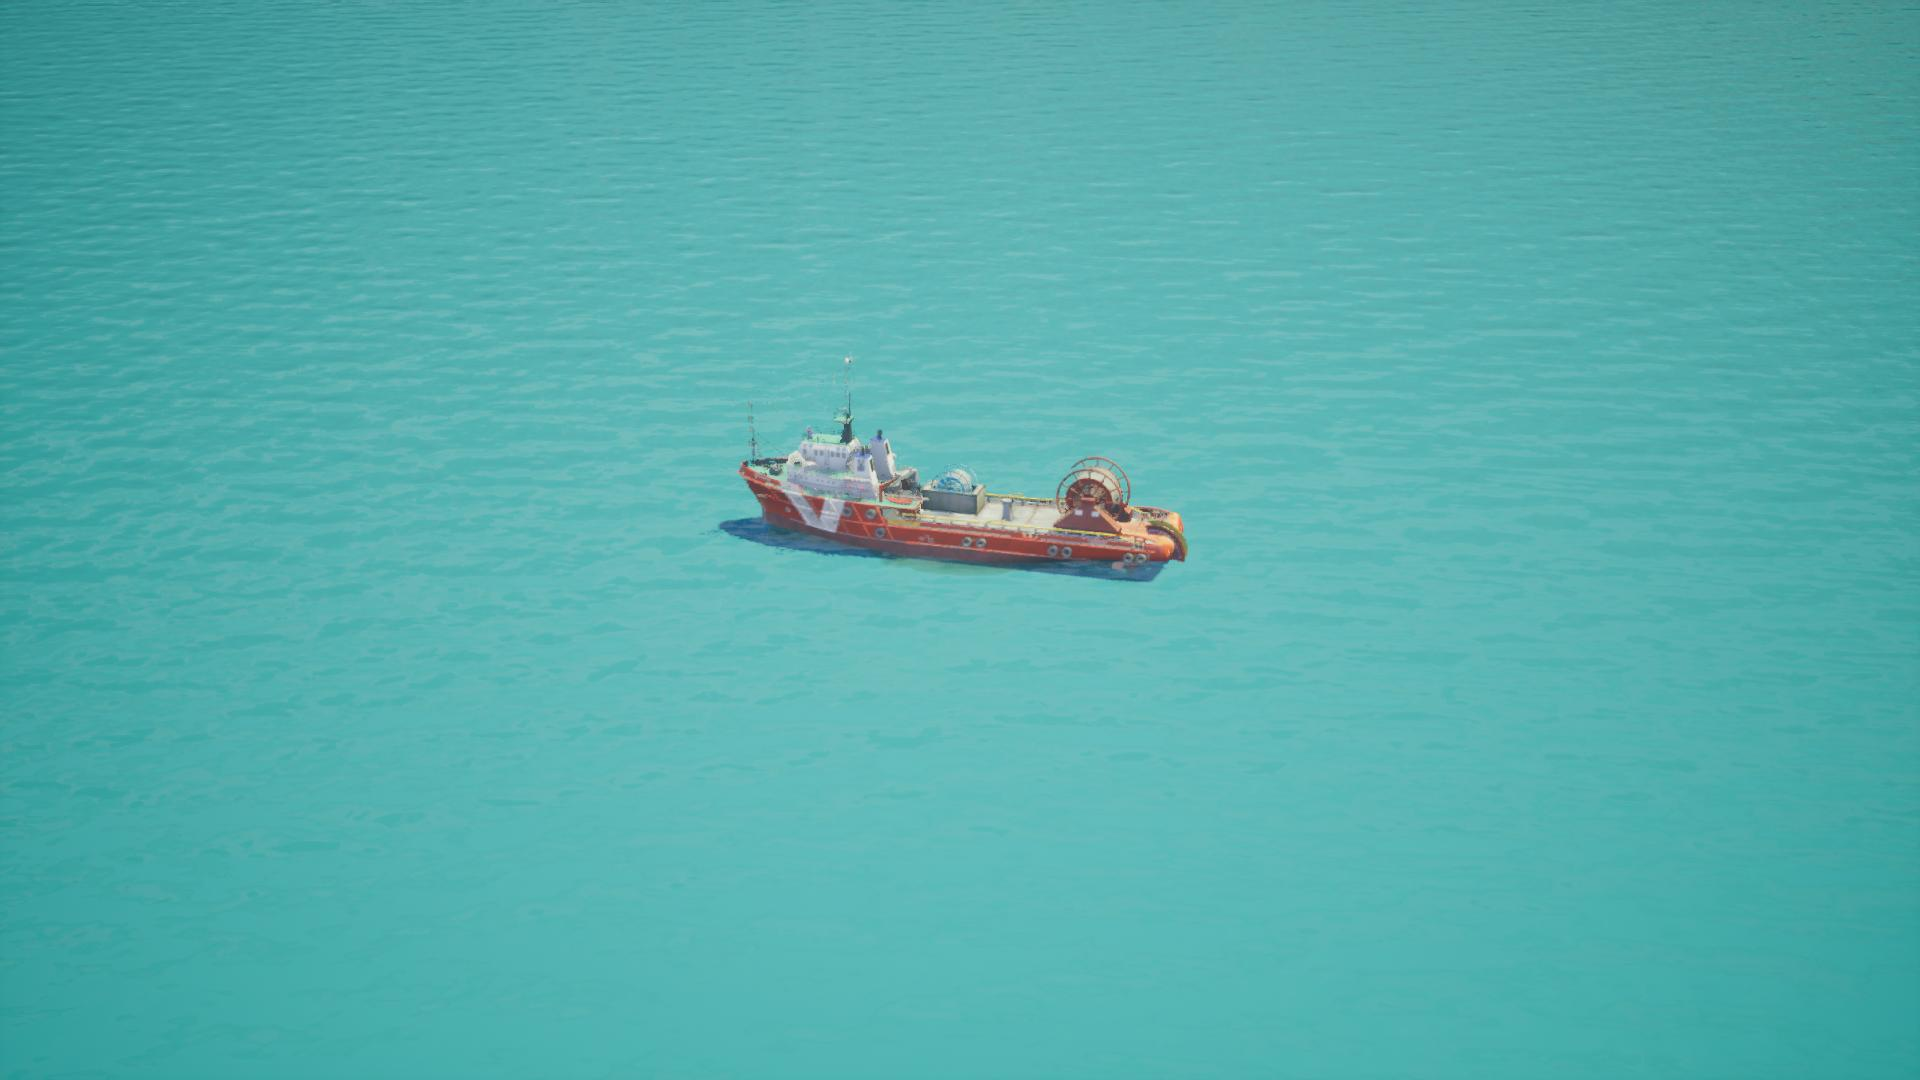Tug Boat: (732, 361, 1199, 587)
